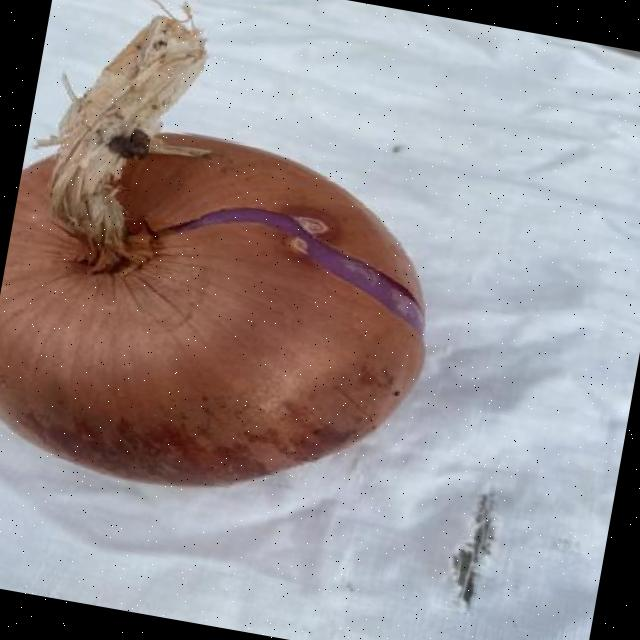Onion: (0, 4, 426, 485)
